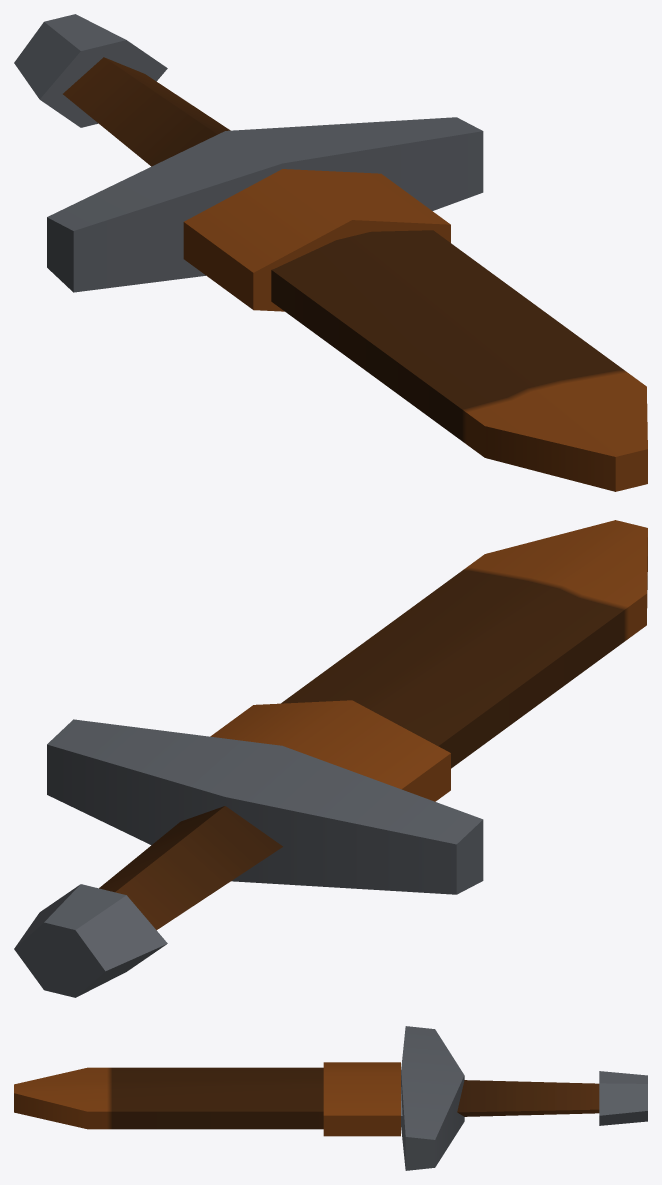
File: wpn-dagger.glb
3 renders of one model, top to bottom at view 1: azimuth 30°, elevation 25°; view 2: azimuth 150°, elevation 25°; view 3: azimuth 270°, elevation 25°, orthographic. The views are drawn at different scales.
Parts seen in each view (by area): view 1: DaggerScabbard, Dagger; view 2: Dagger, DaggerScabbard; view 3: DaggerScabbard, Dagger.
Boxes of the visible parts, bbox=[...] form: DaggerScabbard: bbox=[183, 169, 647, 491]; Dagger: bbox=[14, 14, 483, 292]; Dagger: bbox=[14, 719, 483, 997]; DaggerScabbard: bbox=[210, 520, 647, 801]; DaggerScabbard: bbox=[14, 1062, 400, 1136]; Dagger: bbox=[401, 1026, 647, 1170].
Size of the model in its own units: 0.2237 by 0.0536 by 0.5408.
Materials: 1 (1 with a texture image).
